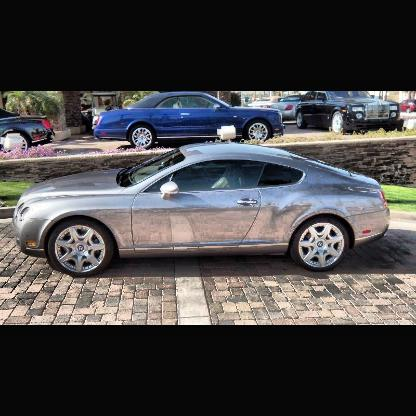Bentley Continental GT Coupe 2007: (15, 144, 392, 278)
